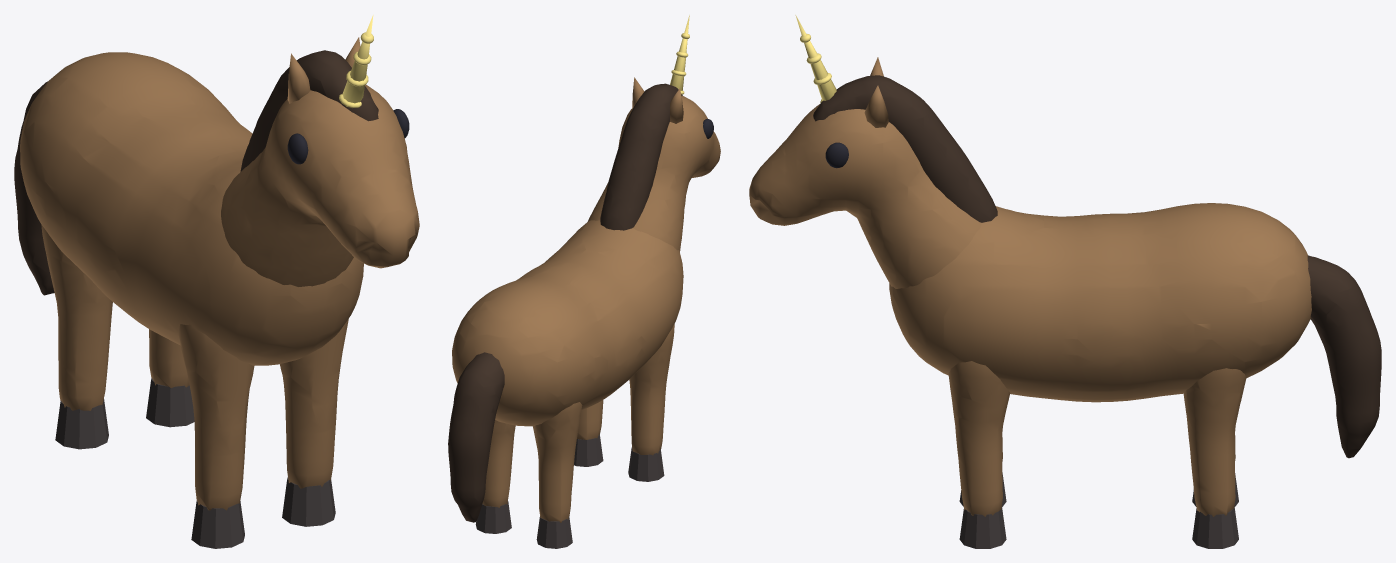
Rendered from Horse.fbx.
3 renders of one model, left to right at view 1: azimuth 30°, elevation 25°; view 2: azimuth 150°, elevation 25°; view 3: azimuth 270°, elevation 25°, orthographic. The views are drawn at different scales.
Parts seen in each view (by area): view 1: HorseBody, HorseHead, HorseLegFR, HorseLegBR, HorseLegFL, HorseLegBL, HorseTail, HorseHorn; view 2: HorseBody, HorseHead, HorseTail, HorseLegBR, HorseLegFR, HorseLegBL, HorseLegFL, HorseHorn; view 3: HorseBody, HorseHead, HorseTail, HorseLegFL, HorseLegBL, HorseHorn.
Part boxes in pixels (left/top/right/bottom): HorseBody: left=20, top=52, right=363, bottom=365; HorseHead: left=221, top=37, right=419, bottom=286; HorseLegFR: left=178, top=324, right=254, bottom=548; HorseLegBR: left=41, top=224, right=112, bottom=449; HorseLegFL: left=280, top=319, right=348, bottom=526; HorseLegBL: left=146, top=329, right=194, bottom=427; HorseTail: left=14, top=81, right=54, bottom=295; HorseHorn: left=339, top=15, right=373, bottom=107; HorseBody: left=452, top=220, right=683, bottom=426; HorseHead: left=588, top=77, right=720, bottom=251; HorseTail: left=448, top=352, right=504, bottom=522; HorseLegBR: left=533, top=402, right=582, bottom=548; HorseLegFR: left=628, top=324, right=674, bottom=481; HorseLegBL: left=475, top=420, right=515, bottom=533; HorseLegFL: left=574, top=400, right=603, bottom=466; HorseHorn: left=670, top=15, right=689, bottom=94; HorseBody: left=889, top=203, right=1311, bottom=402; HorseHead: left=749, top=57, right=997, bottom=288; HorseTail: left=1307, top=255, right=1381, bottom=458; HorseLegFL: left=948, top=361, right=1010, bottom=548; HorseLegBL: left=1183, top=368, right=1246, bottom=548; HorseHorn: left=795, top=15, right=836, bottom=102.
Bounding box in the file's own units: 0.8384 × 2.5 × 2.83.
